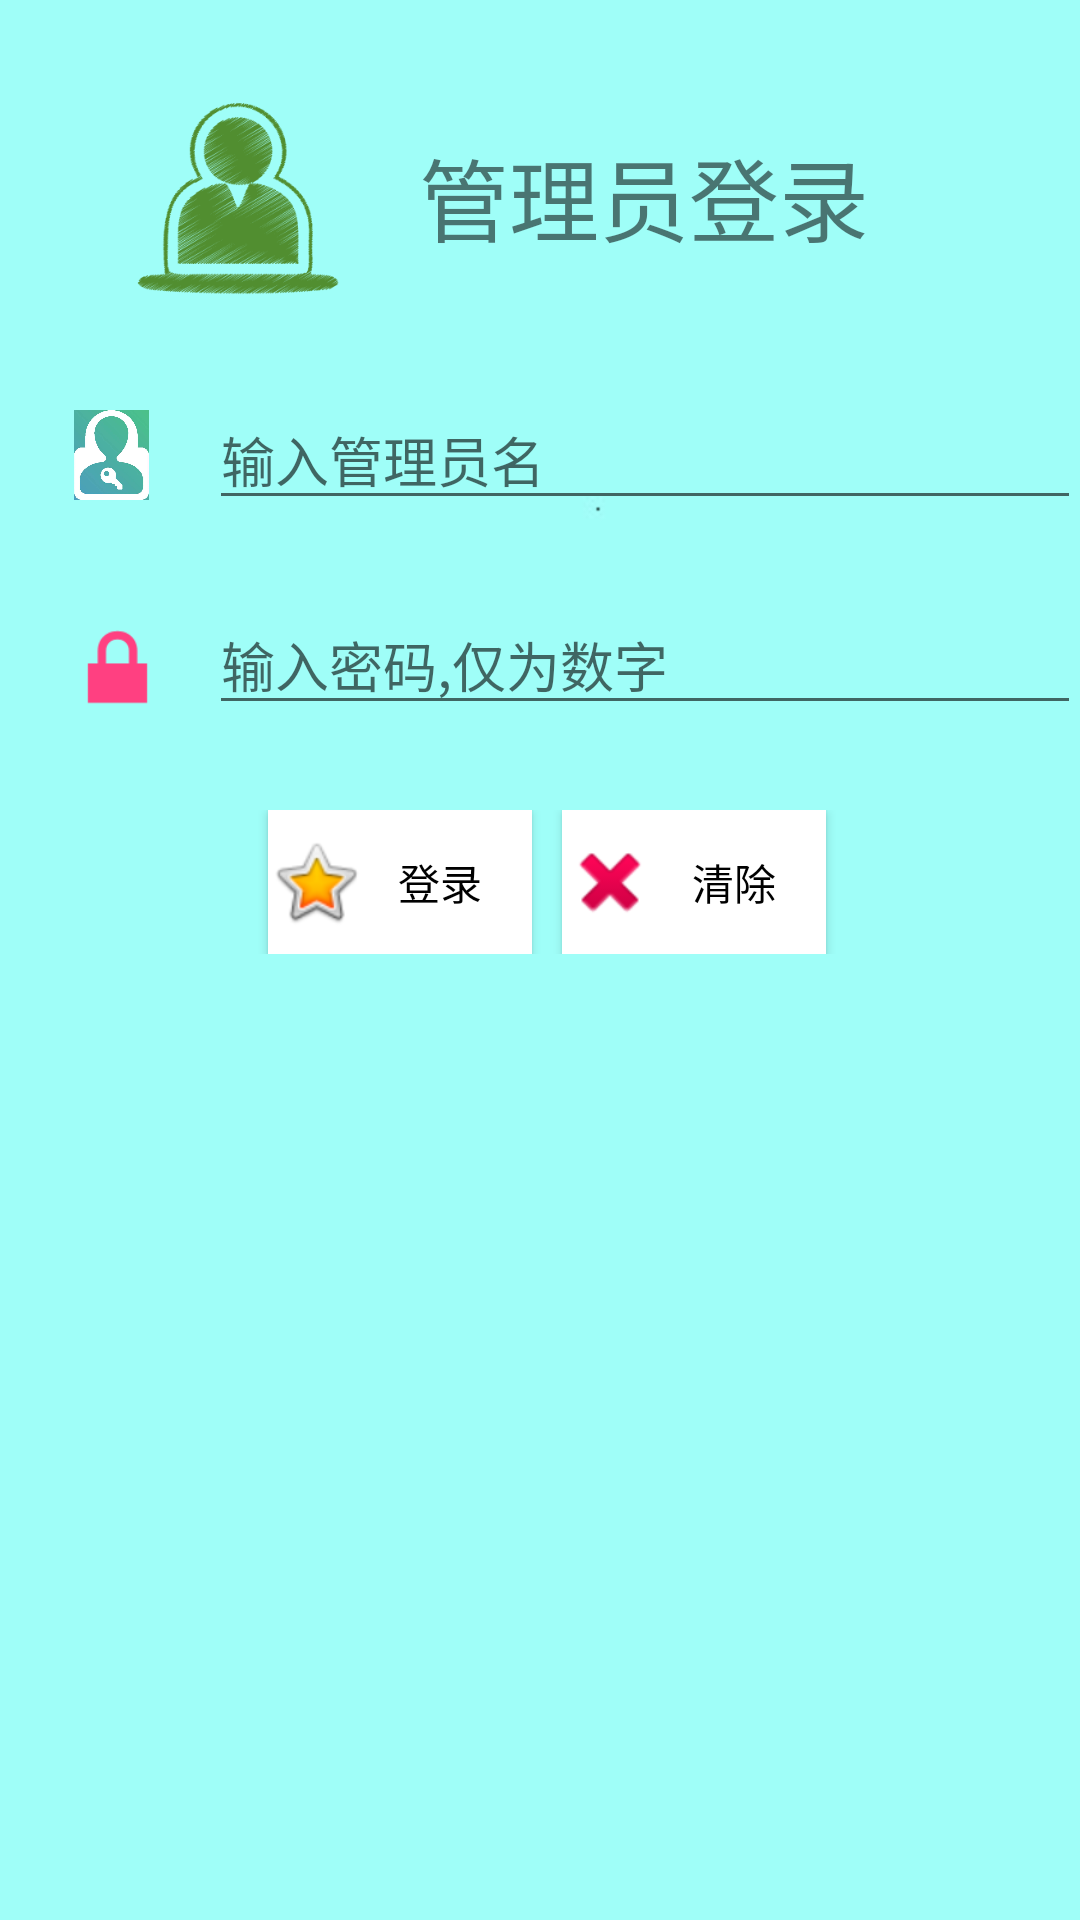

Named icons in this screenshot (1080px×1920px) and their centers, point (x, y):
lock: point (117, 667)
user: point (111, 455)
user login: point (238, 198)
